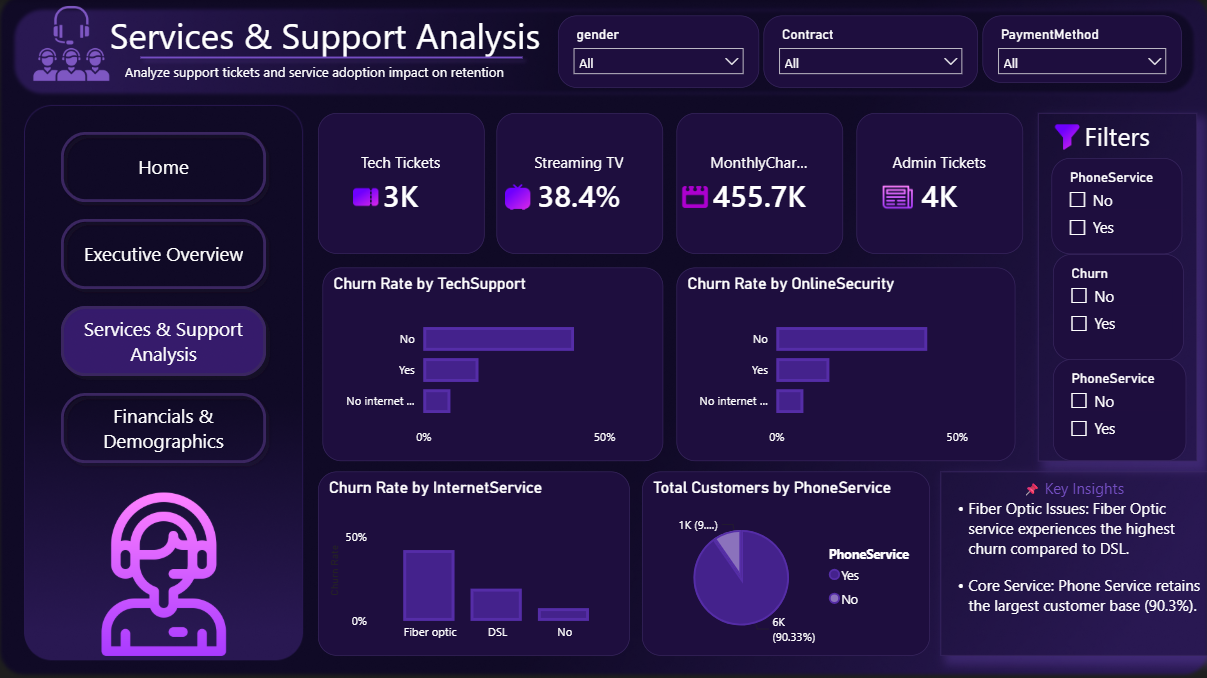

Layout of this report page (visuals, bound fields, positions):
{"tool":"powerbi","page":{"name":"Services & support Analysis","canvas":[1280,720],"ordinal":2},"visuals":[{"type":"actionButton","box":[55.7,132,235.4,92.3],"z":0},{"type":"actionButton","box":[55.7,316.5,235.4,92.3],"z":1000},{"type":"actionButton","box":[55.7,224.3,235.4,92.3],"z":2000},{"type":"actionButton","box":[55.7,408.8,235.4,92.3],"z":3000},{"type":"textbox","box":[111.3,8,480.4,77.9],"z":4000},{"type":"image","box":[0,0,151.1,93.8],"z":5000},{"type":"image","box":[55.7,523.3,235.4,173.4],"z":6000},{"type":"cardVisual","fields":{"Data":["Sum(01 Churn-Dataset.numTechTickets)"]},"box":[337.2,120.9,176.6,149.5],"z":7000},{"type":"cardVisual","fields":{"Data":["01 Churn-Dataset.Streaming TV Adoption"]},"box":[526.5,120.9,176.6,149.5],"z":8000},{"type":"cardVisual","fields":{"Data":["Sum(01 Churn-Dataset.MonthlyCharges)"]},"box":[717.4,120.9,176.6,149.5],"z":9000},{"type":"cardVisual","fields":{"Data":["Sum(01 Churn-Dataset.numAdminTickets)"]},"box":[908.2,120.9,176.6,149.5],"z":10000},{"type":"clusteredBarChart","fields":{"Y":["01 Churn-Dataset.Churn Rate"],"Category":["01 Churn-Dataset.TechSupport"]},"box":[342,284.7,361.1,205.2],"z":11000},{"type":"clusteredBarChart","fields":{"Y":["01 Churn-Dataset.Churn Rate"],"Category":["01 Churn-Dataset.OnlineSecurity"]},"box":[717.4,284.7,359.5,205.2],"z":12000},{"type":"clusteredColumnChart","fields":{"Y":["01 Churn-Dataset.Churn Rate"],"Category":["01 Churn-Dataset.InternetService"]},"box":[337.2,501,330.8,195.6],"z":13000},{"type":"pieChart","fields":{"Y":["01 Churn-Dataset.Total Customers"],"Category":["01 Churn-Dataset.PhoneService"]},"box":[680.8,501,305.4,195.6],"z":14000},{"type":"slicer","fields":{"Values":["01 Churn-Dataset.gender"]},"box":[591.7,17.5,213.1,76.3],"z":15000},{"type":"slicer","fields":{"Values":["01 Churn-Dataset.Contract"]},"box":[809.6,17.5,227.5,76.3],"z":16000},{"type":"slicer","fields":{"Values":["01 Churn-Dataset.PaymentMethod"]},"box":[1041.9,17.5,211.6,71.6],"z":17000},{"type":"slicer","fields":{"Values":["01 Churn-Dataset.Churn"]},"box":[1116.6,270.4,138.4,112.9],"z":18000},{"type":"slicer","fields":{"Values":["01 Churn-Dataset.PhoneService"]},"box":[1115,168.6,138.4,101.8],"z":19000},{"type":"textbox","box":[1100.7,120.9,168.6,369],"z":20000},{"type":"textbox","box":[997.3,501,283.1,195.6],"z":21000},{"type":"slicer","fields":{"Values":["01 Churn-Dataset.PhoneService"]},"box":[1116.6,381.7,141.6,108.2],"z":22000},{"type":"image","box":[351.5,195.6,73.2,28.6],"z":23000},{"type":"image","box":[523.3,195.6,50.9,28.6],"z":24000},{"type":"image","box":[717.4,195.6,39.8,28.6],"z":25000},{"type":"image","box":[935.3,194.1,33.4,31.8],"z":26000},{"type":"textbox","box":[127.2,62,448.6,31.8],"z":27000},{"type":"shape","box":[140,0,423.1,124.1],"z":28000},{"type":"image","box":[1100.7,132,62,28.6],"z":29000}]}

Visuals, with their boxes in screenshot pixels (x1, y1, x2, y2), scaled from the page's 1280x720 canvas onto the 1207x678 screenshot:
actionButton: {"left": 53, "top": 124, "right": 274, "bottom": 211}
actionButton: {"left": 53, "top": 298, "right": 274, "bottom": 385}
actionButton: {"left": 53, "top": 211, "right": 274, "bottom": 298}
actionButton: {"left": 53, "top": 385, "right": 274, "bottom": 472}
textbox: {"left": 105, "top": 8, "right": 558, "bottom": 81}
image: {"left": 0, "top": 0, "right": 142, "bottom": 88}
image: {"left": 53, "top": 493, "right": 274, "bottom": 656}
cardVisual - Sum(01 Churn-Dataset.numTechTickets): {"left": 318, "top": 114, "right": 484, "bottom": 255}
cardVisual - 01 Churn-Dataset.Streaming TV Adoption: {"left": 496, "top": 114, "right": 663, "bottom": 255}
cardVisual - Sum(01 Churn-Dataset.MonthlyCharges): {"left": 676, "top": 114, "right": 843, "bottom": 255}
cardVisual - Sum(01 Churn-Dataset.numAdminTickets): {"left": 856, "top": 114, "right": 1023, "bottom": 255}
clusteredBarChart - 01 Churn-Dataset.Churn Rate x 01 Churn-Dataset.TechSupport: {"left": 322, "top": 268, "right": 663, "bottom": 461}
clusteredBarChart - 01 Churn-Dataset.Churn Rate x 01 Churn-Dataset.OnlineSecurity: {"left": 676, "top": 268, "right": 1015, "bottom": 461}
clusteredColumnChart - 01 Churn-Dataset.Churn Rate x 01 Churn-Dataset.InternetService: {"left": 318, "top": 472, "right": 630, "bottom": 656}
pieChart - 01 Churn-Dataset.Total Customers x 01 Churn-Dataset.PhoneService: {"left": 642, "top": 472, "right": 930, "bottom": 656}
slicer - 01 Churn-Dataset.gender: {"left": 558, "top": 16, "right": 759, "bottom": 88}
slicer - 01 Churn-Dataset.Contract: {"left": 763, "top": 16, "right": 978, "bottom": 88}
slicer - 01 Churn-Dataset.PaymentMethod: {"left": 982, "top": 16, "right": 1182, "bottom": 84}
slicer - 01 Churn-Dataset.Churn: {"left": 1053, "top": 255, "right": 1183, "bottom": 361}
slicer - 01 Churn-Dataset.PhoneService: {"left": 1051, "top": 159, "right": 1182, "bottom": 255}
textbox: {"left": 1038, "top": 114, "right": 1197, "bottom": 461}
textbox: {"left": 940, "top": 472, "right": 1206, "bottom": 656}
slicer - 01 Churn-Dataset.PhoneService: {"left": 1053, "top": 359, "right": 1186, "bottom": 461}
image: {"left": 331, "top": 184, "right": 400, "bottom": 211}
image: {"left": 493, "top": 184, "right": 541, "bottom": 211}
image: {"left": 676, "top": 184, "right": 714, "bottom": 211}
image: {"left": 882, "top": 183, "right": 913, "bottom": 213}
textbox: {"left": 120, "top": 58, "right": 543, "bottom": 88}
shape: {"left": 132, "top": 0, "right": 531, "bottom": 117}
image: {"left": 1038, "top": 124, "right": 1096, "bottom": 151}
